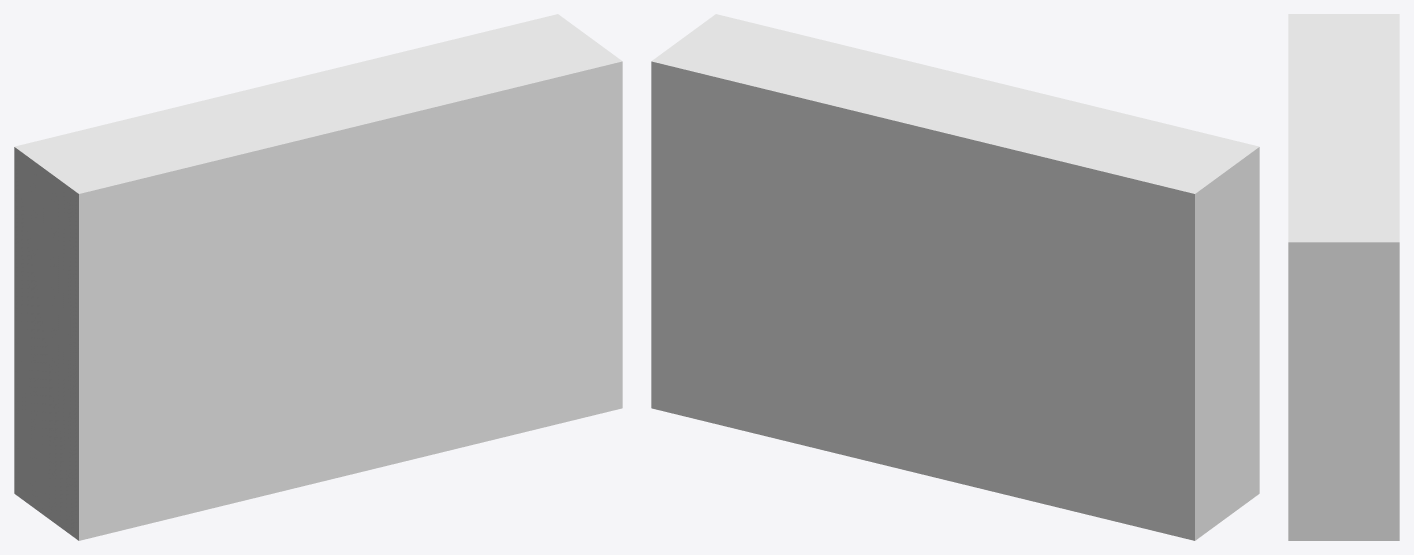
File: napkins.glb
3 views of the same model, side by side, from view 1: azimuth 30°, elevation 25°; view 2: azimuth 150°, elevation 25°; view 3: azimuth 270°, elevation 25° (orthographic). The views are drawn at different scales.
Parts seen in each view (by area): view 1: Napkins.001; view 2: Napkins.001; view 3: Napkins.001.
Boxes of the visible parts, bbox=[...] form: Napkins.001: bbox=[14, 14, 622, 540]; Napkins.001: bbox=[651, 14, 1259, 540]; Napkins.001: bbox=[1288, 14, 1399, 540].
Bounding box in the file's own units: 0.1266 × 0.0771 × 0.0261.
1 material, 1 textured.
